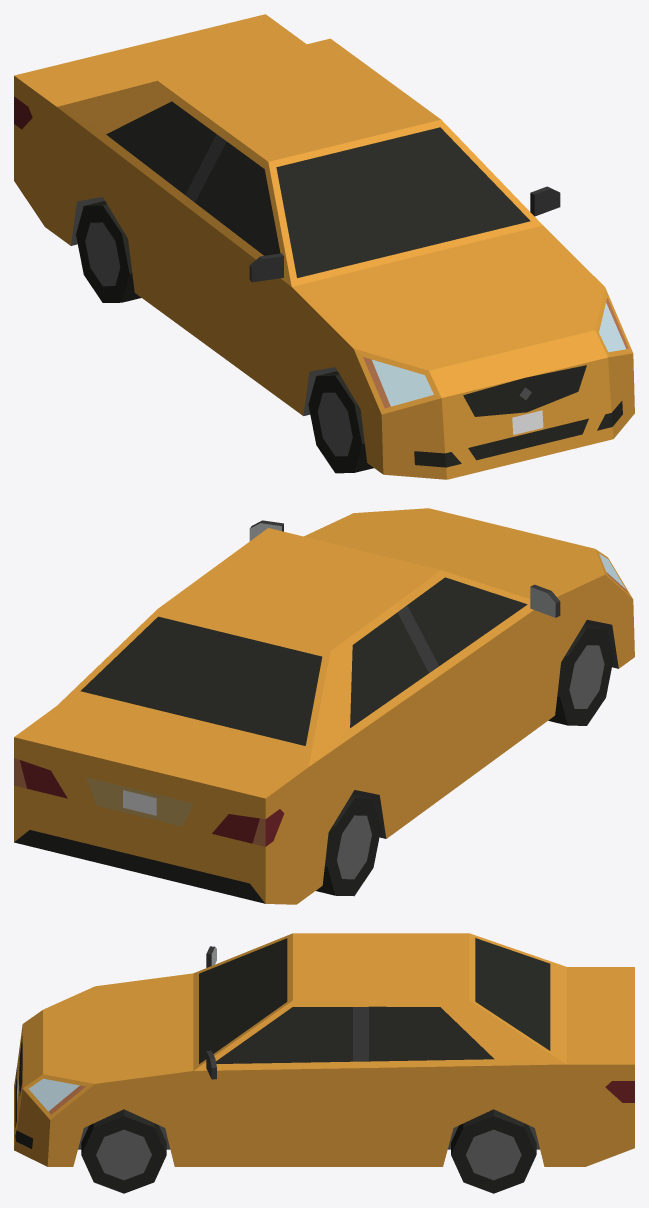
The model's file is Veh_Sedan_03_Yellow.obj.
3 renders of one model, top to bottom at view 1: azimuth 30°, elevation 25°; view 2: azimuth 150°, elevation 25°; view 3: azimuth 270°, elevation 25°, orthographic. The views are drawn at different scales.
Size of the model in its own units: 1.19 by 0.8272 by 2.61.
